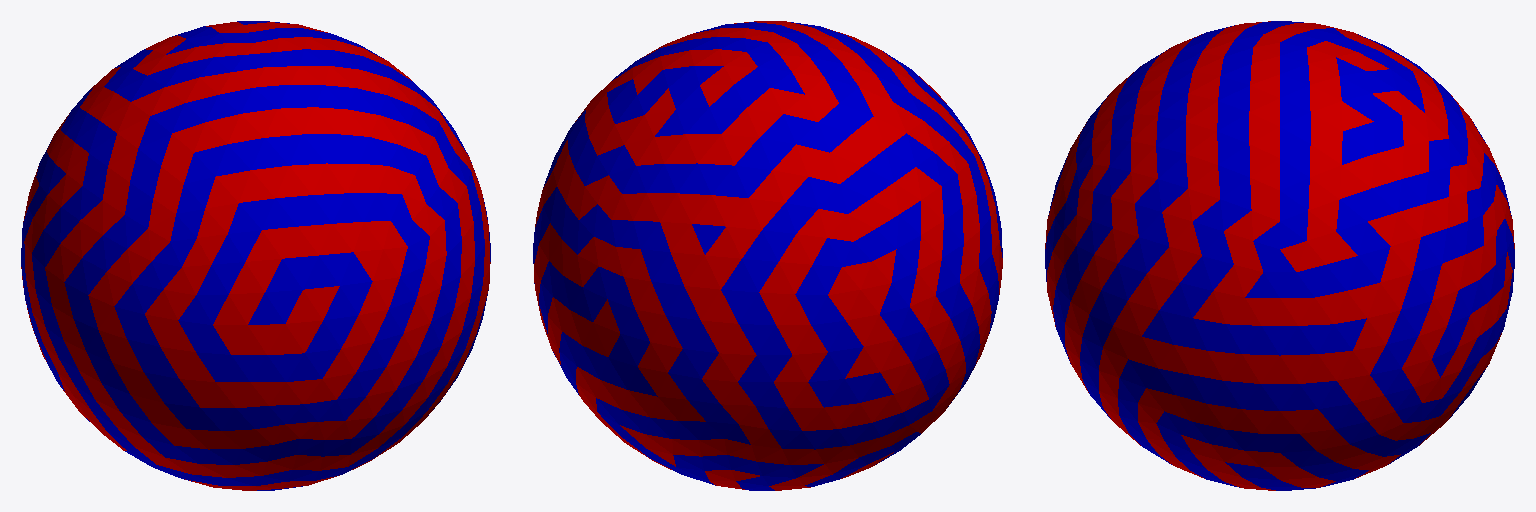
The model's file is matorb.obj.
The picture shows the model from 3 angles: view 1: azimuth 30°, elevation 25°; view 2: azimuth 150°, elevation 25°; view 3: azimuth 270°, elevation 25°; orthographic projection.
Visible parts, largest first — view 1: Icosphere_Icosphere_Reddish, Icosphere_Icosphere_Blueish; view 2: Icosphere_Icosphere_Reddish, Icosphere_Icosphere_Blueish; view 3: Icosphere_Icosphere_Reddish, Icosphere_Icosphere_Blueish.
Boxes of the visible parts, x1=… form: Icosphere_Icosphere_Reddish: x1=21, y1=22, x2=490, y2=490; Icosphere_Icosphere_Blueish: x1=21, y1=21, x2=490, y2=490; Icosphere_Icosphere_Reddish: x1=534, y1=21, x2=1002, y2=490; Icosphere_Icosphere_Blueish: x1=533, y1=22, x2=1002, y2=490; Icosphere_Icosphere_Reddish: x1=1045, y1=21, x2=1514, y2=490; Icosphere_Icosphere_Blueish: x1=1045, y1=21, x2=1514, y2=490.
Size of the model in its own units: 2 by 2 by 2.